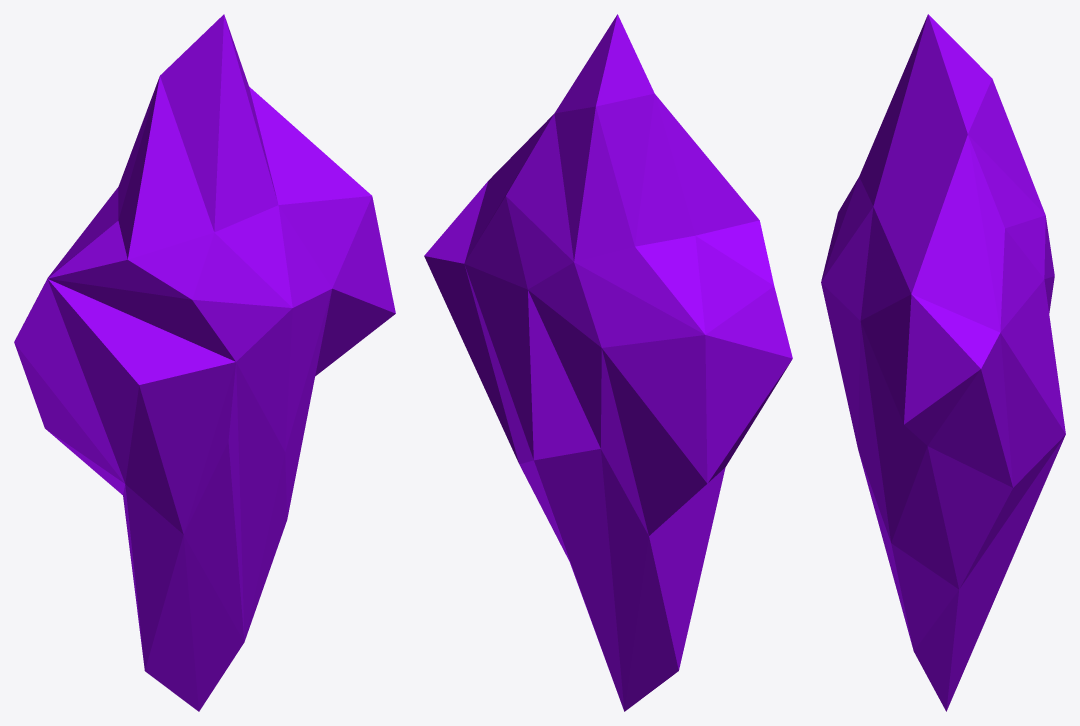
The model's file is Crystal_036.fbx.
The picture shows the model from 3 angles, left to right: view 1: azimuth 30°, elevation 25°; view 2: azimuth 150°, elevation 25°; view 3: azimuth 270°, elevation 25°; orthographic projection. The views are drawn at different scales.
Visible parts, largest first — view 1: Crystal.036; view 2: Crystal.036; view 3: Crystal.036.
Boxes of the visible parts, <box> form: Crystal.036: <box>14,14,395,711</box>; Crystal.036: <box>424,14,792,711</box>; Crystal.036: <box>821,14,1065,711</box>.
Size of the model in its own units: 304 by 557 by 175.
